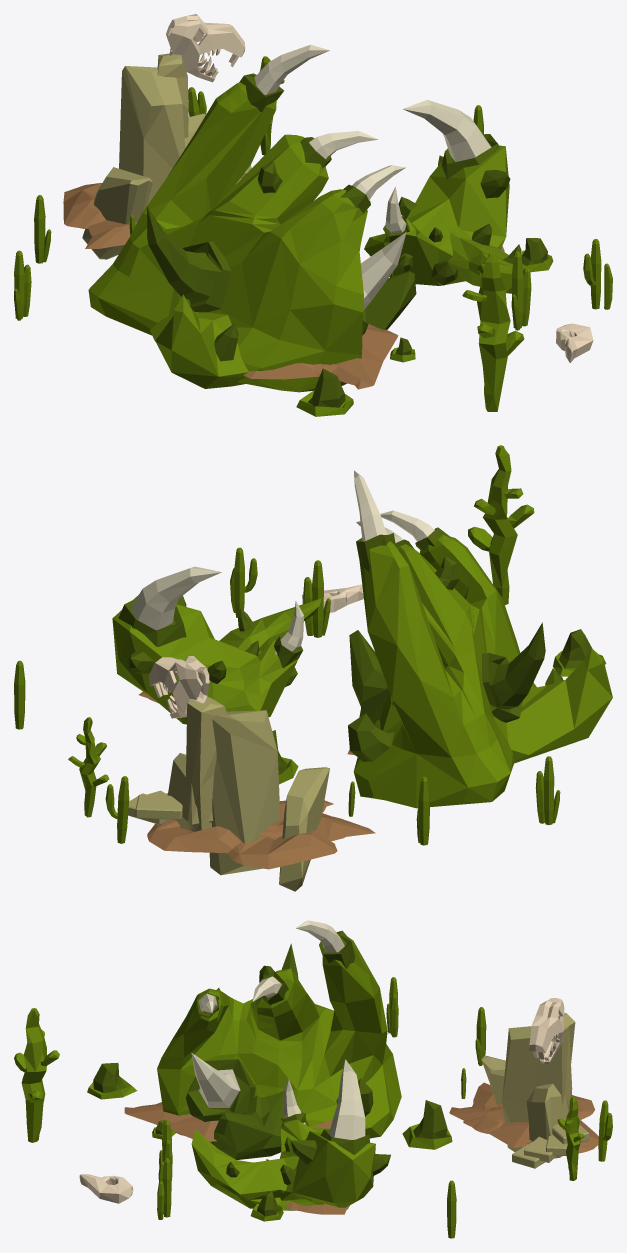
The model's file is desert_assets_6.glb.
The picture shows the model from 3 angles, top to bottom: view 1: azimuth 30°, elevation 25°; view 2: azimuth 150°, elevation 25°; view 3: azimuth 270°, elevation 25°; orthographic projection. The views are drawn at different scales.
Visible parts, largest first — view 1: Box14698, GeoSphere041, Box14699, Cylinder1142_Color_0, Creature_42, Box14701, Plane051, Cylinder1136_Color_0, Plane057, Cylinder1145_Color_0, Cylinder1141_Color_0, Box14702 (+6 smaller); view 2: Box14698, GeoSphere041, Box14699, Cylinder1142_Color_0, Box14702, Box14701, Plane057, Creature_42, Plane058, Cylinder1146, Box14700, Cylinder1141_Color_0 (+9 smaller); view 3: Box14698, GeoSphere041, Box14699, Cylinder1142_Color_0, Creature_42, Box14700, Plane051, Cylinder1138_Color_0, Box14702, Plane055, Cylinder1136_Color_0, Creature_73_Color_0 (+12 smaller).
Part boxes in pixels (x1,y1,x2,y2): Box14698: (88,44,416,392); GeoSphere041: (364,100,529,293); Box14699: (119,66,185,205); Cylinder1142_Color_0: (462,252,524,411); Creature_42: (166,14,245,82); Box14701: (82,167,152,259); Plane051: (313,323,398,389); Cylinder1136_Color_0: (296,368,353,416); Plane057: (63,183,105,228); Cylinder1145_Color_0: (583,239,612,309); Cylinder1141_Color_0: (511,251,531,330); Box14702: (157,53,188,137); Box14698: (348,470,612,808); GeoSphere041: (112,566,321,724); Box14699: (209,710,280,875); Cylinder1142_Color_0: (468,445,534,604); Box14702: (185,697,227,831); Box14701: (279,767,329,891); Plane057: (227,830,337,869); Creature_42: (149,656,209,718); Plane058: (147,819,241,853); Cylinder1146: (68,717,109,817); Box14700: (167,753,213,831); Cylinder1141_Color_0: (303,560,330,637); Box14698: (157,920,401,1159); GeoSphere041: (191,1059,390,1210); Box14699: (502,1013,575,1158); Cylinder1142_Color_0: (14,1008,59,1142); Creature_42: (528,998,564,1063); Box14700: (526,1083,569,1162); Plane051: (124,1102,218,1141); Cylinder1138_Color_0: (402,1100,452,1149); Box14702: (535,1024,572,1106); Plane055: (449,1103,531,1147); Cylinder1136_Color_0: (87,1062,137,1099); Creature_73_Color_0: (79,1174,133,1203).
Bounding box in the file's own units: 4.8 × 2.69 × 5.82.
Materials: 1 (1 with a texture image).
